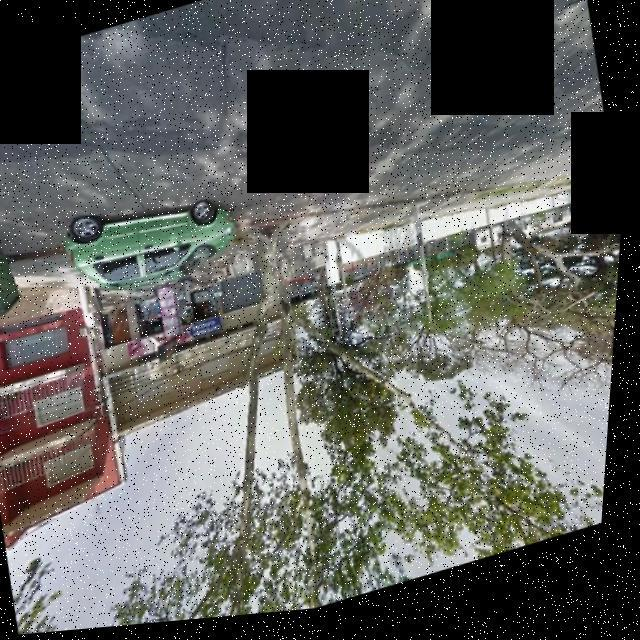bin: (0, 197, 42, 332)
